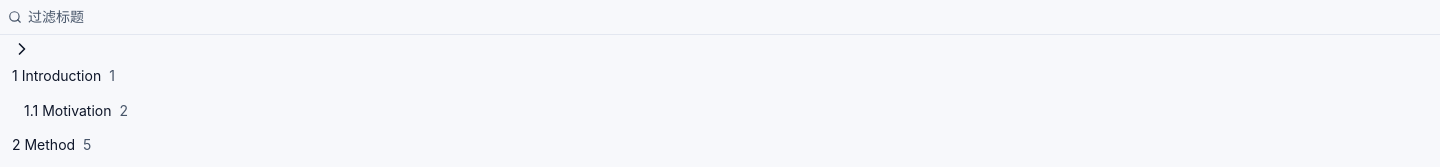
Test: outline panel › collapses a branch so its children are hidden
The width and height of the screenshot is (1440, 167).
Check: the button "1.1 Motivation 2" is shown, box 24,94 -> 128,128
Click the button named "折叠". click: (22, 49)
box: 12,39 -> 32,59
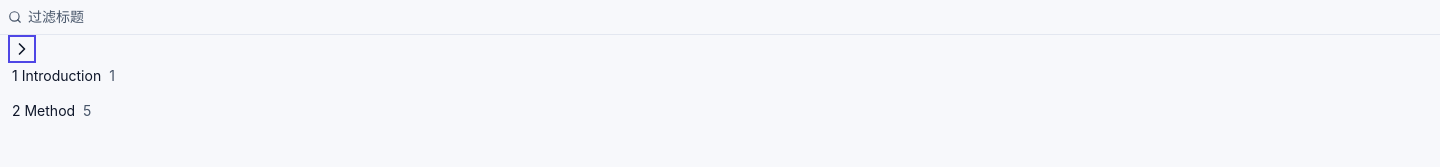
Check: the button "1.1 Motivation" is gone
